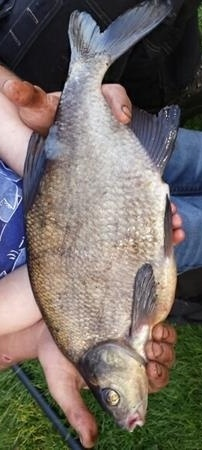Abramis brama: (20, 1, 182, 434)
